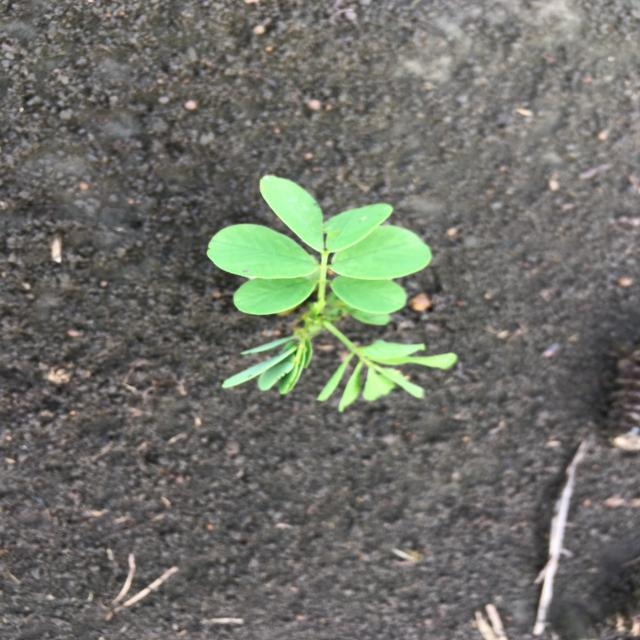Sicklepod: (204, 174, 462, 417)
